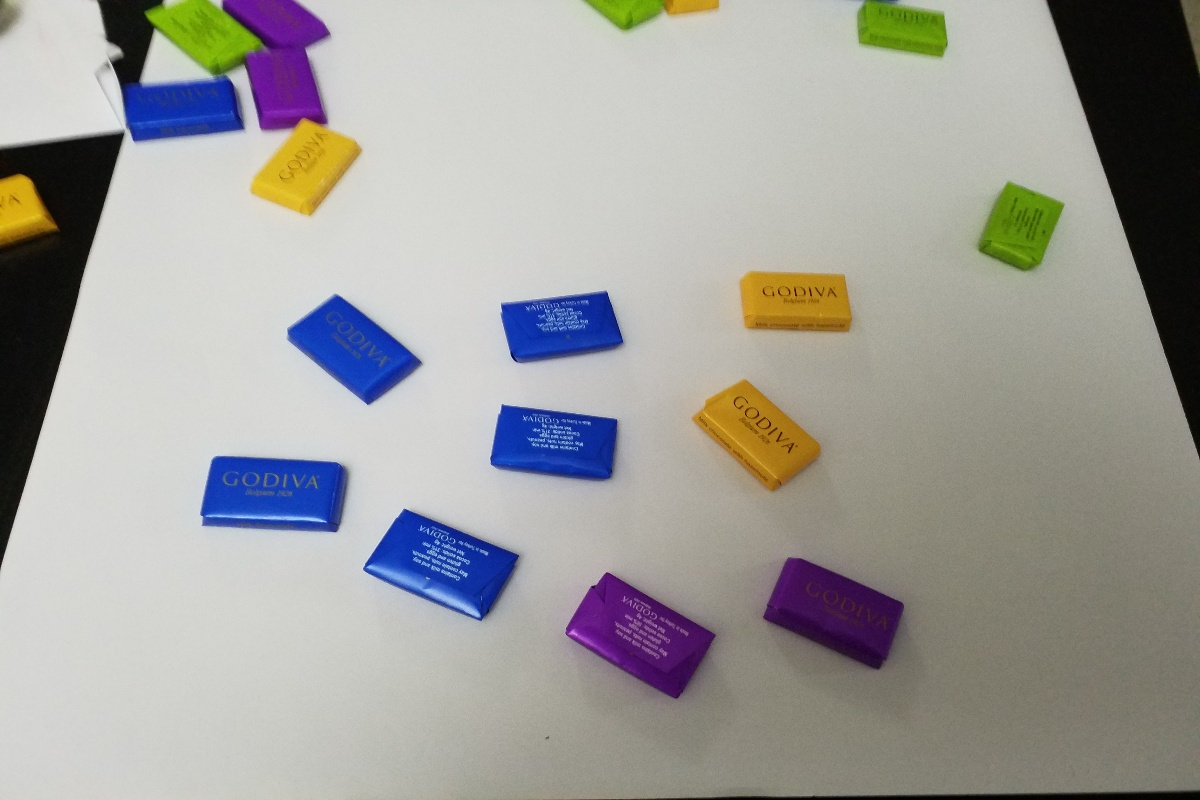chocolate_blue: (270, 288, 431, 415), (360, 505, 522, 631), (486, 279, 632, 376), (476, 396, 632, 485), (202, 449, 355, 537)
chocolate_green: (964, 170, 1070, 287)
chocolate_purple: (552, 562, 726, 707), (756, 549, 916, 680)
chocolate_yellow: (687, 371, 829, 504), (252, 128, 367, 221), (722, 270, 870, 341)
